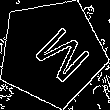M_SW: (17, 19, 86, 86)
